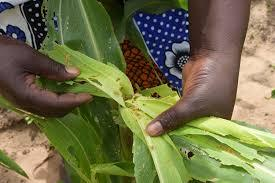fallarmy_worm: (120, 95, 138, 111)
